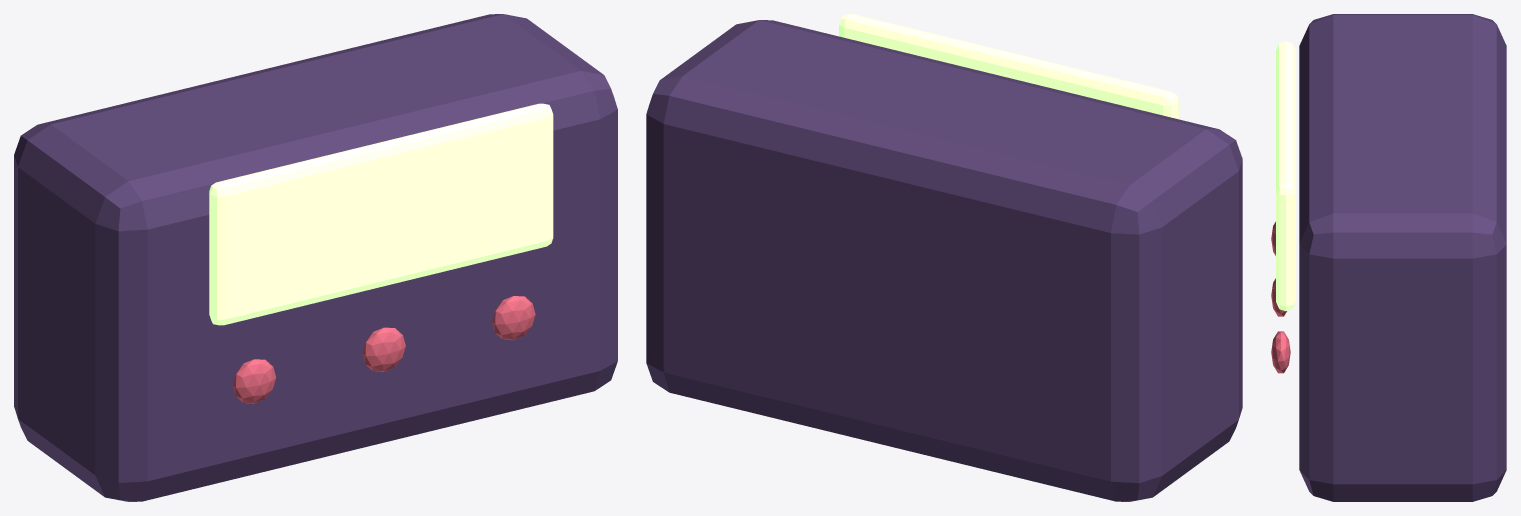
Rendered from console.glb.
3 renders of one model, left to right at view 1: azimuth 30°, elevation 25°; view 2: azimuth 150°, elevation 25°; view 3: azimuth 270°, elevation 25°, orthographic. The views are drawn at different scales.
Parts seen in each view (by area): view 1: SecurityConsoleMesh; view 2: SecurityConsoleMesh; view 3: SecurityConsoleMesh.
Part boxes in pixels (bbox=[...]): SecurityConsoleMesh: bbox=[14, 14, 617, 501]; SecurityConsoleMesh: bbox=[646, 14, 1242, 501]; SecurityConsoleMesh: bbox=[1271, 14, 1506, 501].
Bounding box in the file's own units: 2.2 × 1.31 × 0.965.
